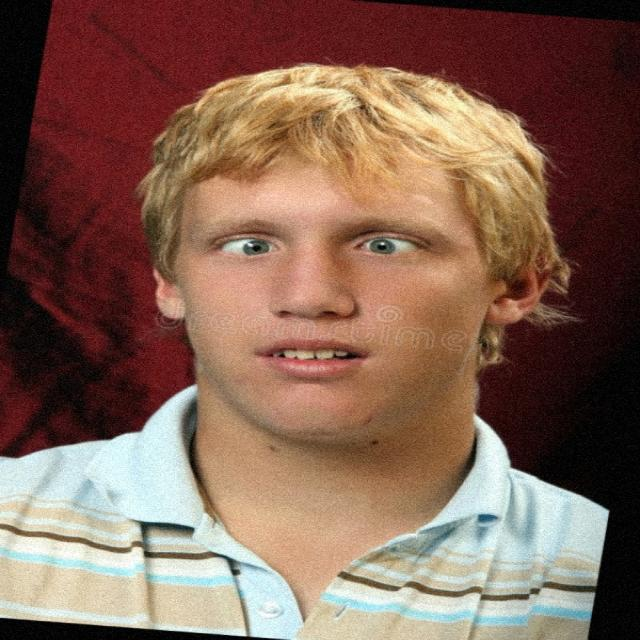Squint: (357, 222, 443, 274), (198, 222, 286, 267)
